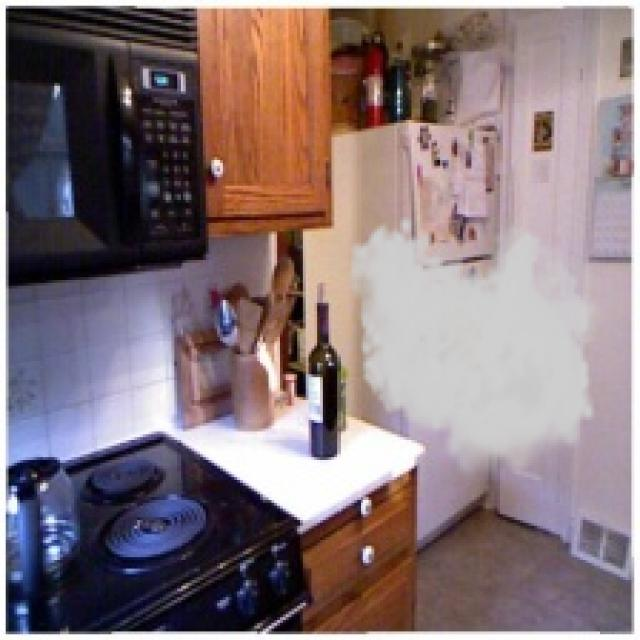smoke: (346, 214, 611, 486)
